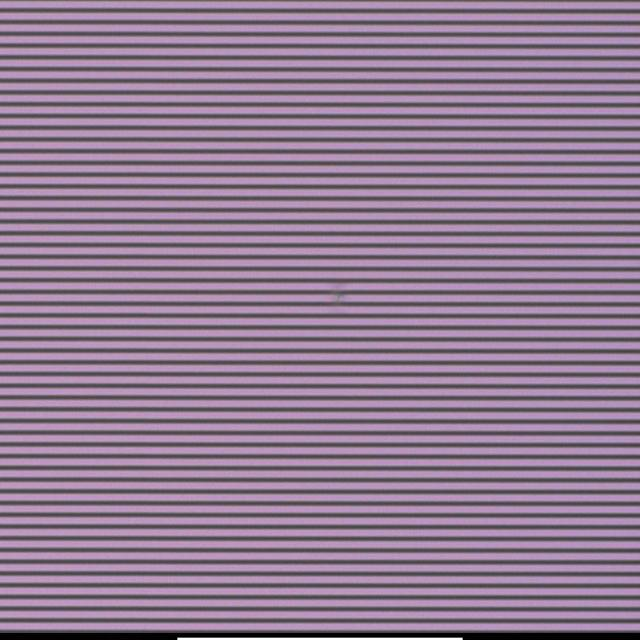nonvisual: (335, 290, 346, 305)
